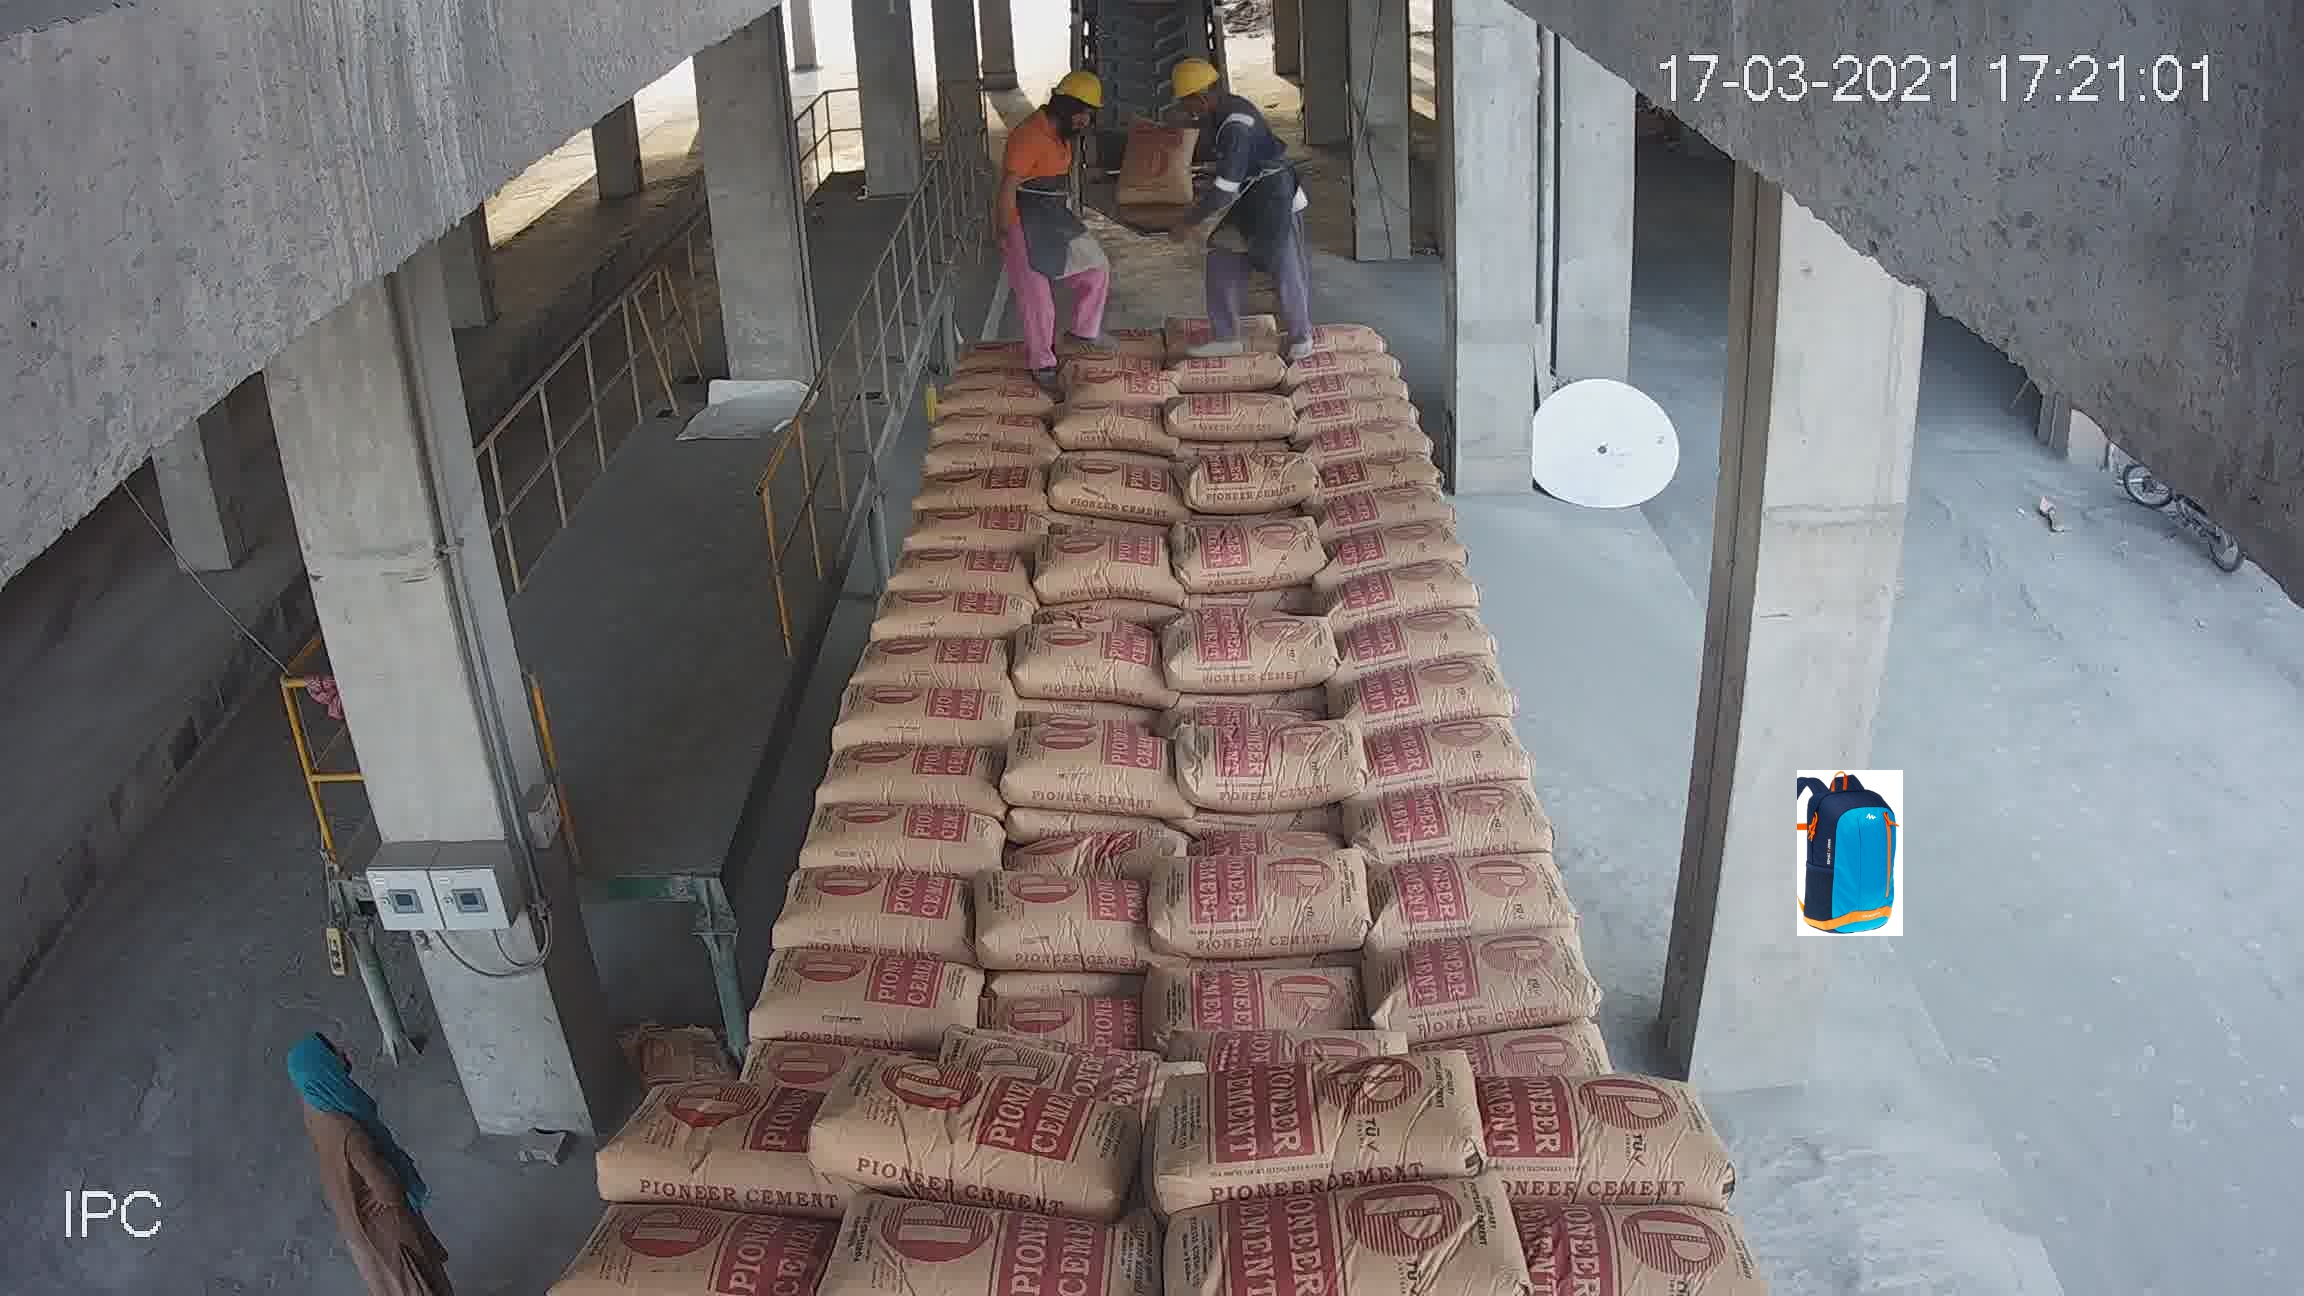bag: (1086, 324, 1212, 489)
bag_h: (807, 1070, 1152, 1211), (829, 1177, 1177, 1293), (883, 937, 1157, 1074), (589, 1067, 821, 1214), (636, 965, 881, 1089), (885, 836, 1147, 946), (902, 758, 1161, 859), (557, 1199, 840, 1280), (676, 873, 878, 972), (725, 775, 894, 885), (1038, 661, 1173, 729), (1032, 571, 1179, 625), (1021, 628, 1161, 673)
belt: (981, 5, 1302, 521), (1133, 1052, 1492, 1212), (1152, 1163, 1537, 1294), (1152, 934, 1453, 1074), (1461, 1070, 1733, 1212), (1484, 1169, 1772, 1296), (1456, 929, 1685, 1086), (1150, 821, 1423, 953), (1383, 851, 1639, 978), (1143, 725, 1397, 850), (1391, 755, 1603, 866), (1374, 595, 1487, 677), (1386, 650, 1513, 723), (1361, 554, 1480, 631), (1400, 711, 1546, 764), (1336, 527, 1470, 574), (1374, 473, 1448, 541), (1366, 423, 1435, 465), (1378, 460, 1434, 513)
